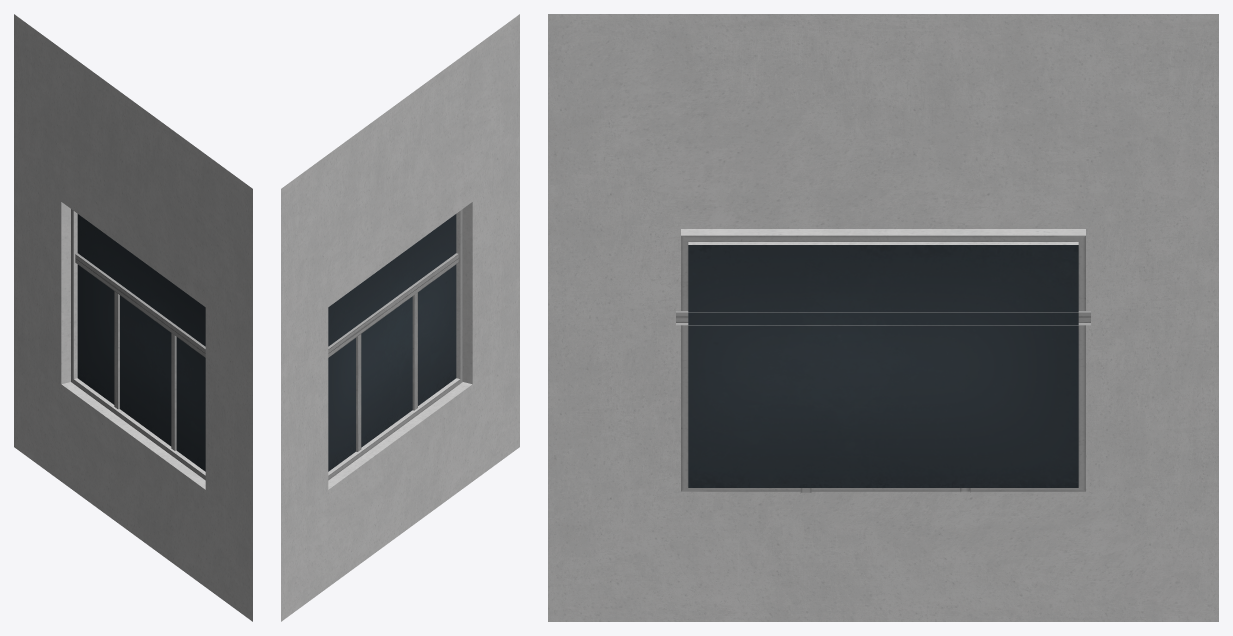
File: MB_Wall_Window_A_22.fbx
The picture shows the model from 3 angles, left to right: view 1: azimuth 30°, elevation 25°; view 2: azimuth 150°, elevation 25°; view 3: azimuth 270°, elevation 25°; orthographic projection. The views are drawn at different scales.
Parts seen in each view (by area): view 1: MB_Wall_Window_A_22; view 2: MB_Wall_Window_A_22; view 3: MB_Wall_Window_A_22.
Part boxes in pixels (x1,y1,x2,y2): MB_Wall_Window_A_22: [14, 14, 252, 621]; MB_Wall_Window_A_22: [281, 14, 519, 621]; MB_Wall_Window_A_22: [548, 14, 1218, 621].
Size of the model in its own units: 13.66 by 400 by 400.
